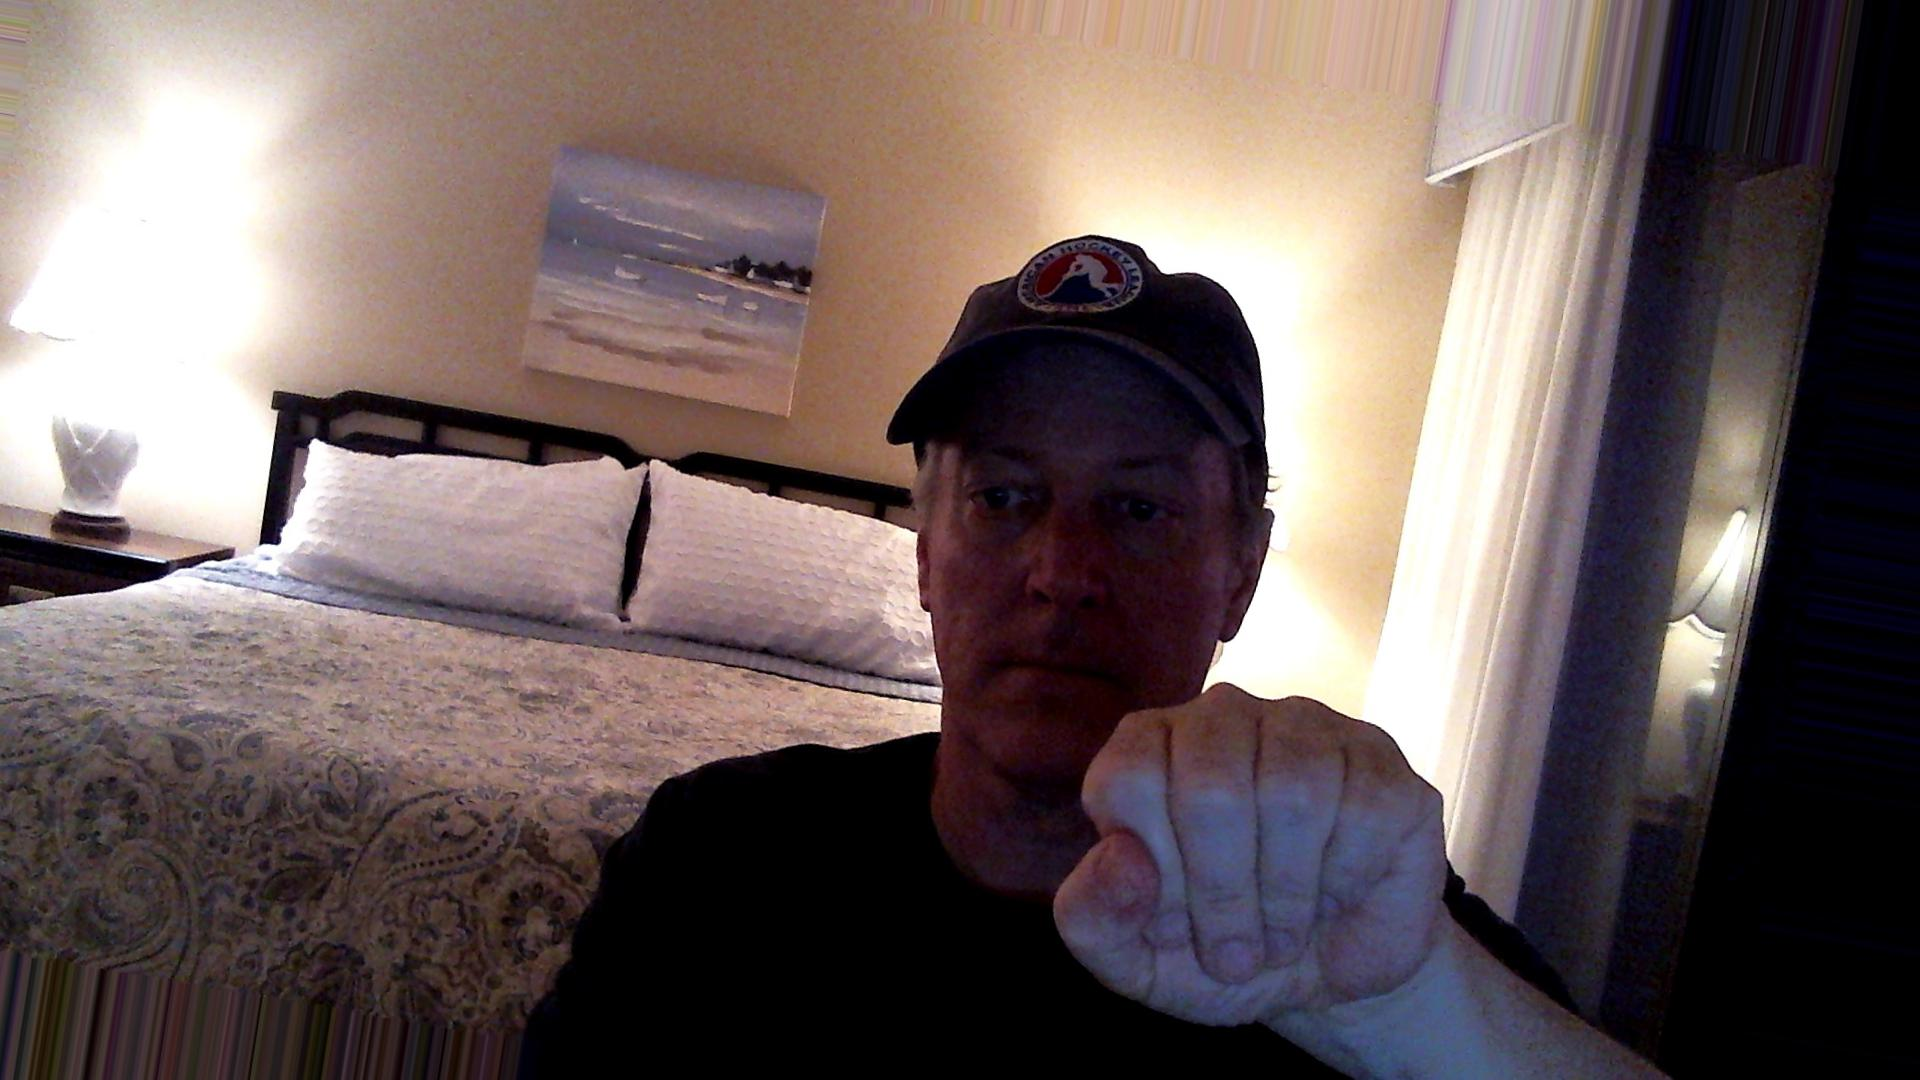Yes: (1040, 678, 1484, 1038)
